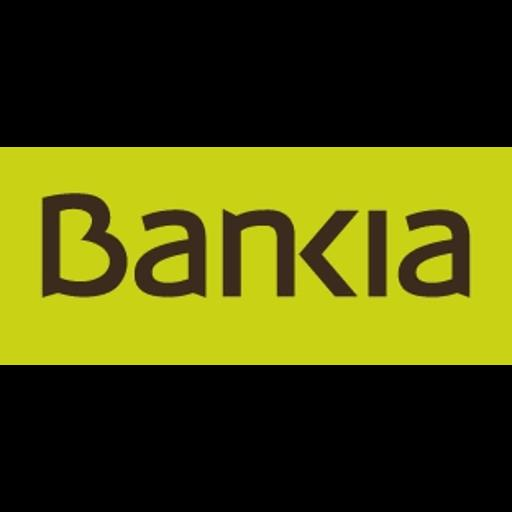Bankia: (0, 147, 512, 365)
